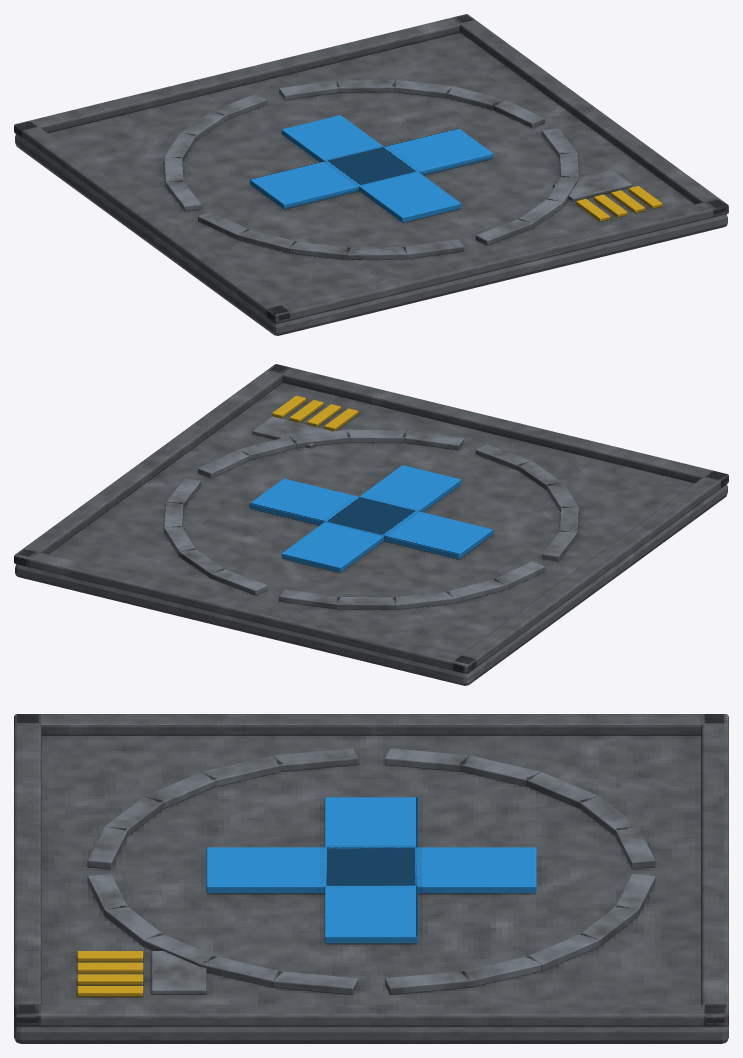
Rendered from arena_city_rune.glb.
3 views of the same model, one above another, from view 1: azimuth 30°, elevation 25°; view 2: azimuth 150°, elevation 25°; view 3: azimuth 270°, elevation 25° (orthographic). The views are drawn at different scales.
Parts seen in each view (by area): view 1: arena_city_rune.001; view 2: arena_city_rune.001; view 3: arena_city_rune.001.
Part boxes in pixels (<box>): arena_city_rune.001: <box>14,14,728,335</box>; arena_city_rune.001: <box>14,364,728,685</box>; arena_city_rune.001: <box>14,714,728,1043</box>.
Size of the model in its own units: 2.6 by 0.125 by 2.6.
Materials: 4 (4 with a texture image).
